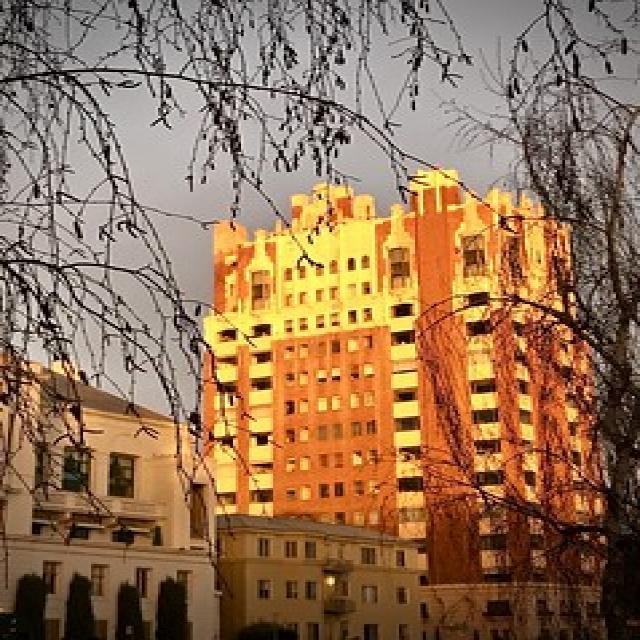Normal_building: (196, 160, 613, 640)
